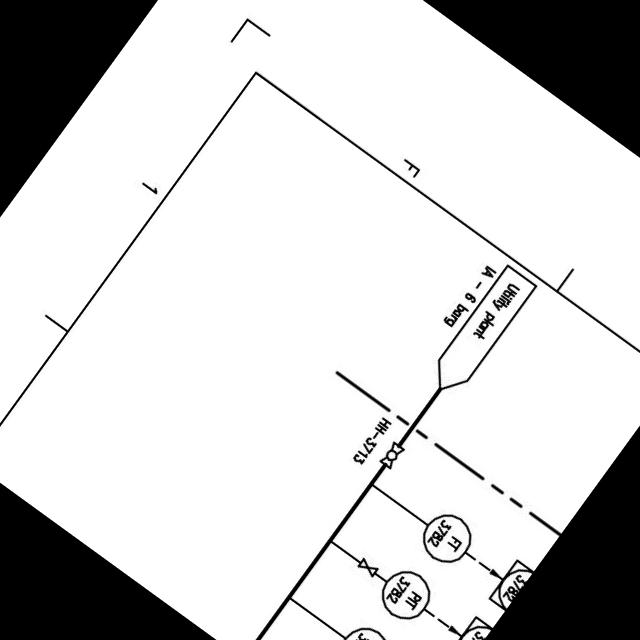BV2: (375, 434, 410, 472)
GV: (352, 552, 382, 581)
